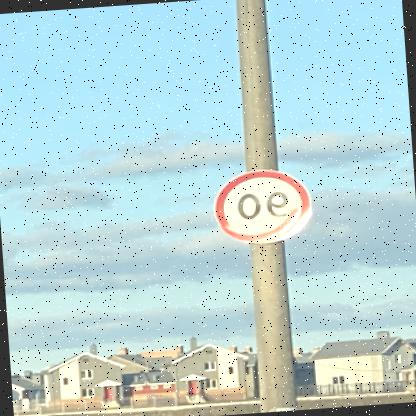speedlimit: (214, 166, 316, 244)
